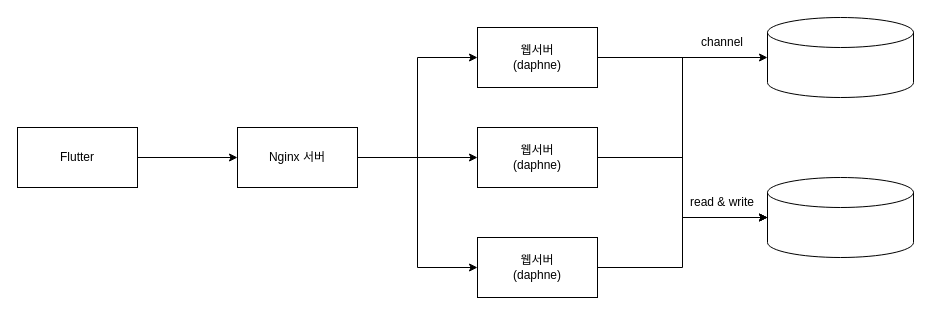
The diagram is 931 pixels wide and 315 high, and some of its shapes have lost their labels. Here are the shapes that lost their labels. From the top down, the centre of each, then its label:
the point at 840,57: 캐시 DB (Redis)
the point at 840,217: MariaDB
